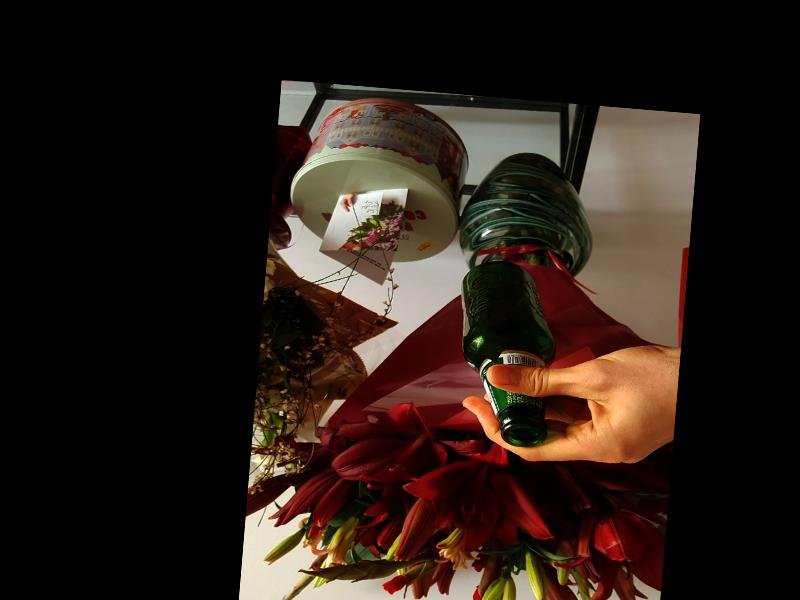Beer: (448, 258, 562, 447)
